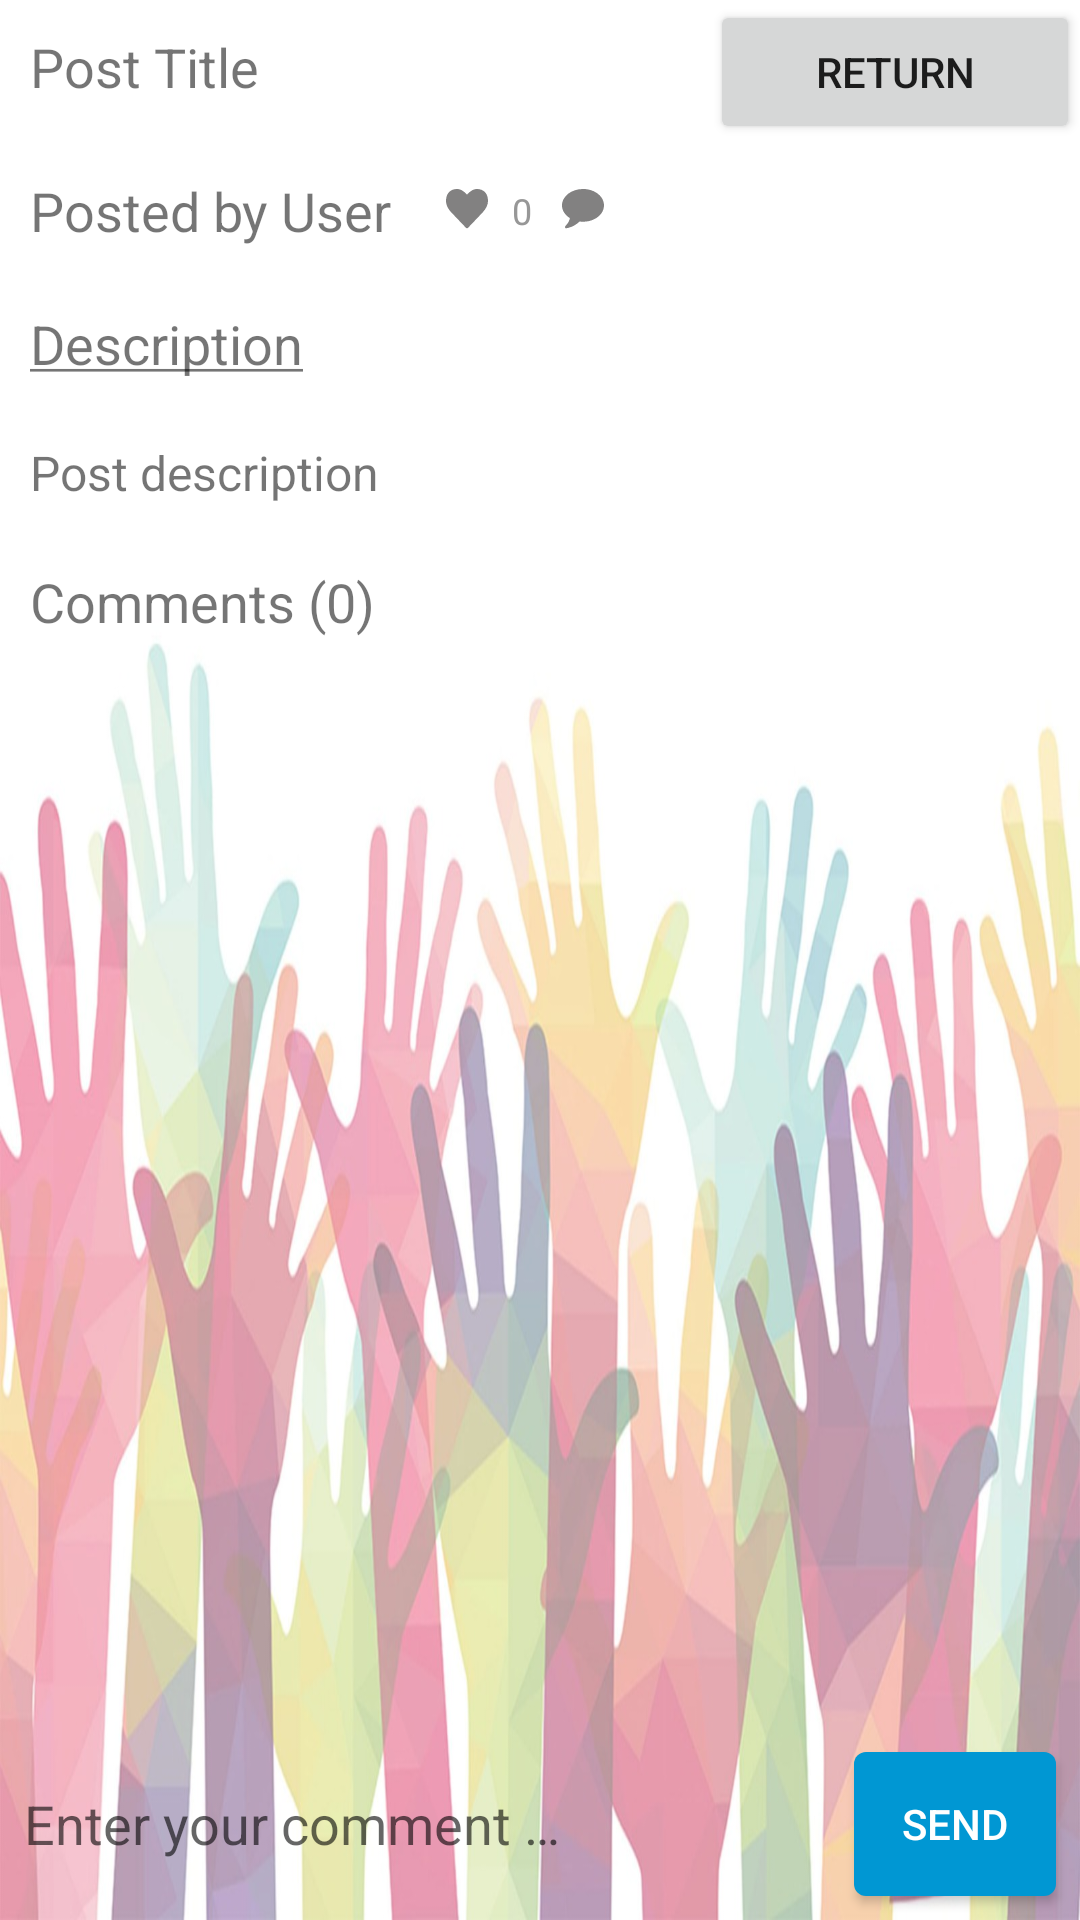

Where to tap for icons on this 1080×1920 app screen, as (x,y):
comments: (583,209)
like: (467,208)
